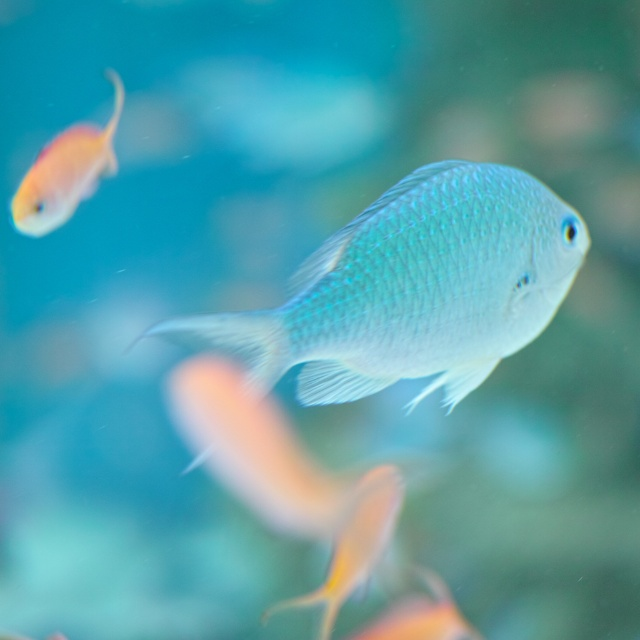Goldfish: (129, 157, 593, 471), (260, 460, 411, 638), (6, 87, 136, 232)
